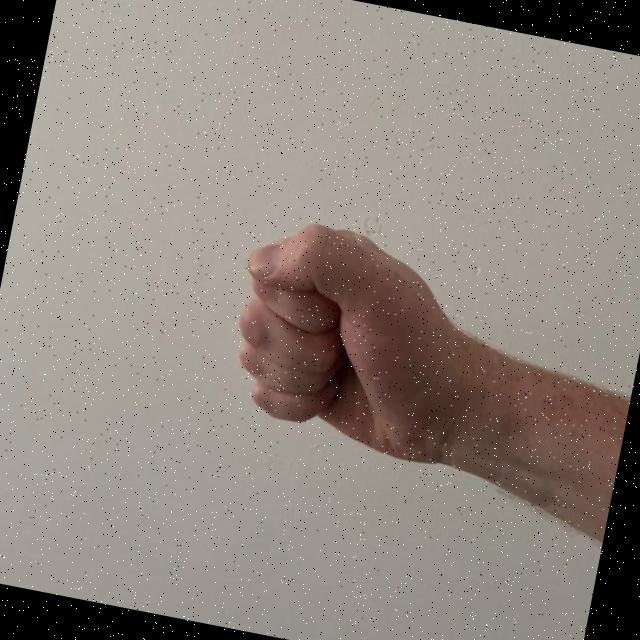rock: (204, 205, 546, 496)
